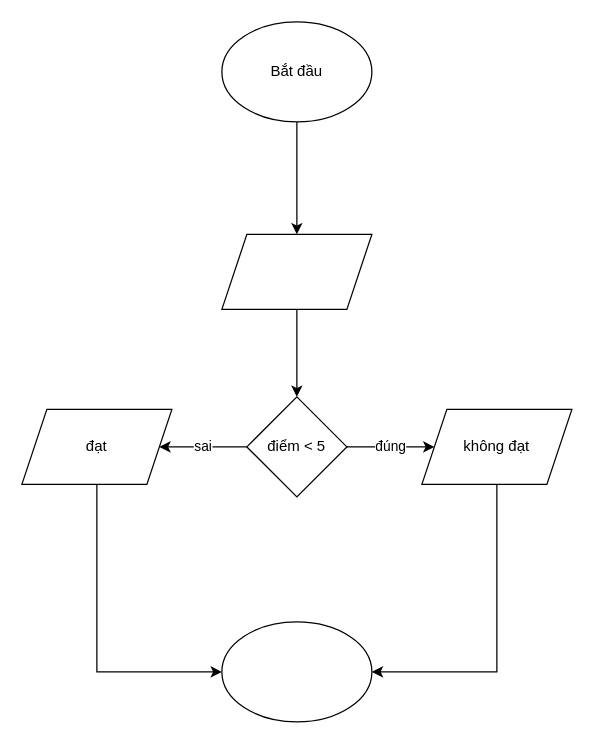
This 594x744 diagram has some shape labels left out. Here are the shapes that lost their labels. From the top down, the centre of each, then its label:
the point at 296,271: nhập điểm
the point at 296,671: kết thúc
